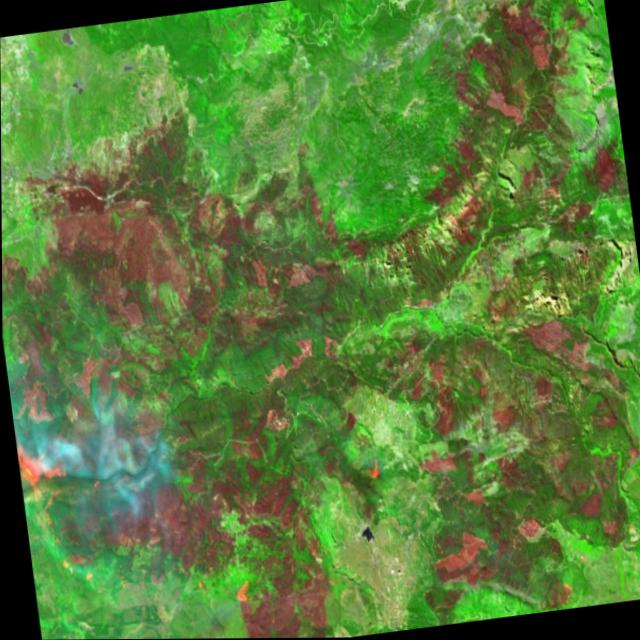fire: (13, 424, 77, 524), (224, 566, 275, 617), (358, 440, 399, 490)
